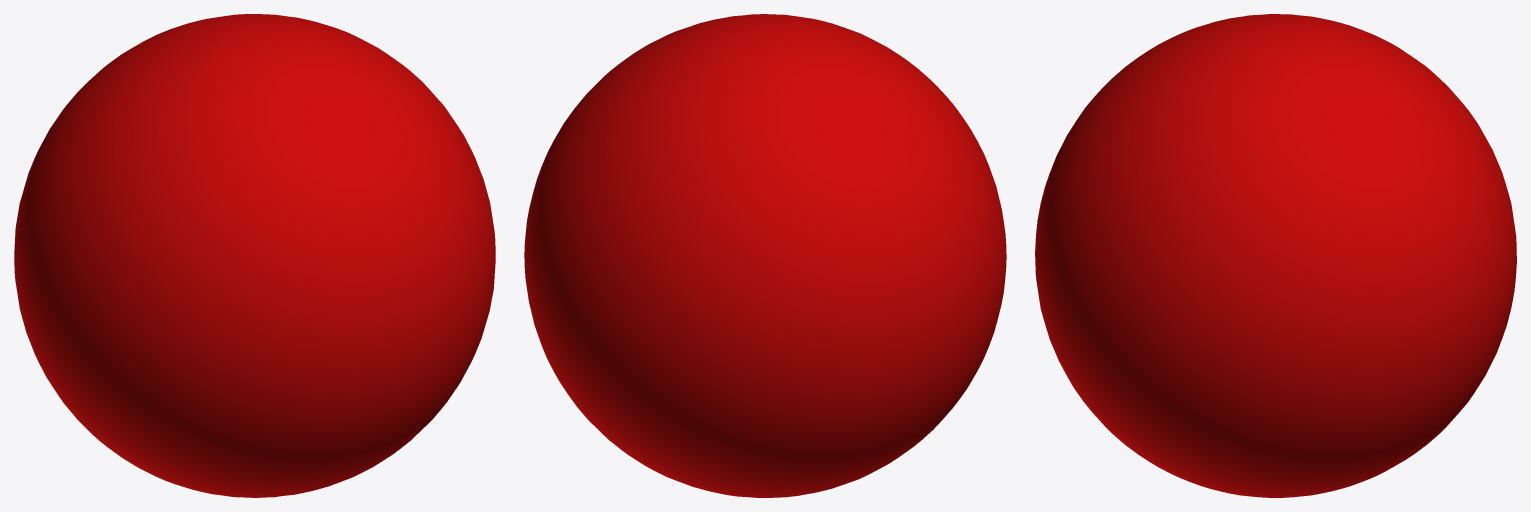
File: nice_sphere.obj
3 views of the same model, side by side, from view 1: azimuth 30°, elevation 25°; view 2: azimuth 150°, elevation 25°; view 3: azimuth 270°, elevation 25° (orthographic).
Parts seen in each view (by area): view 1: Sphere; view 2: Sphere; view 3: Sphere.
Part boxes in pixels (<box>): Sphere: <box>14,14,495,497</box>; Sphere: <box>524,14,1006,497</box>; Sphere: <box>1035,14,1516,497</box>.
Bounding box in the file's own units: 1.98 × 2 × 1.98.
